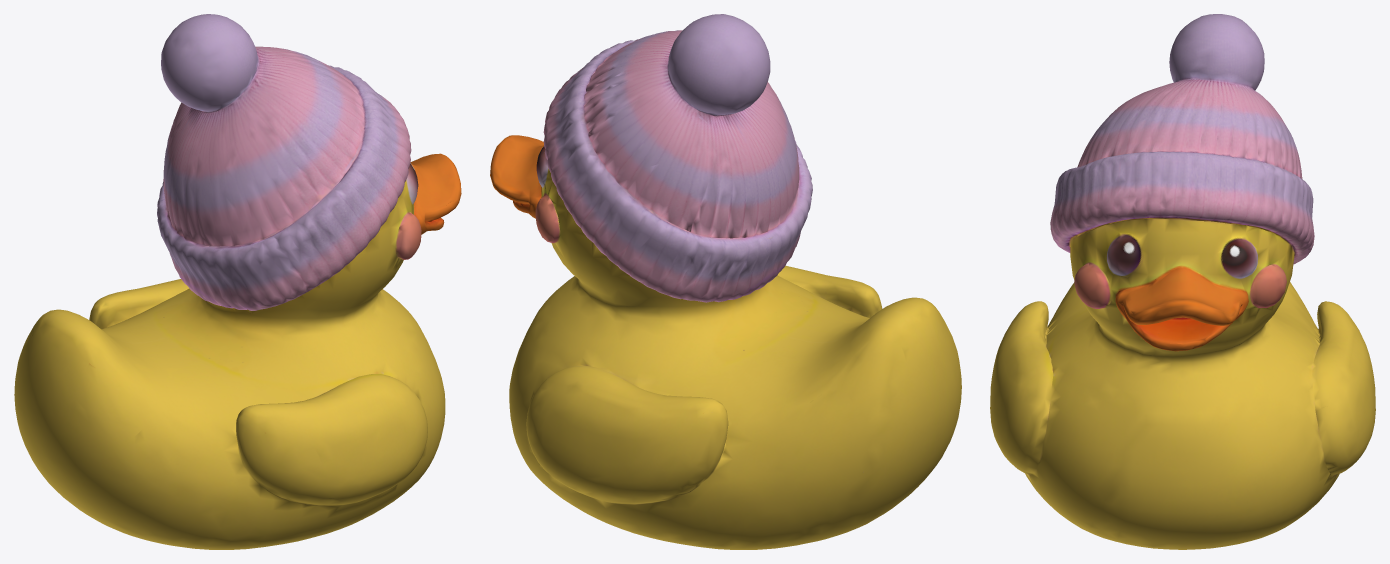
3 views of the same model, side by side, from view 1: azimuth 30°, elevation 25°; view 2: azimuth 150°, elevation 25°; view 3: azimuth 270°, elevation 25° (orthographic). The views are drawn at different scales.
Visible parts, largest first — view 1: repaired; view 2: repaired; view 3: repaired.
Boxes of the visible parts, left/top/right/bottom form: repaired: left=14, top=14, right=461, bottom=549; repaired: left=490, top=14, right=961, bottom=549; repaired: left=990, top=14, right=1375, bottom=549.
Size of the model in its own units: 0.9136 by 0.9995 by 0.7388.
Materials: 1 (1 with a texture image).
